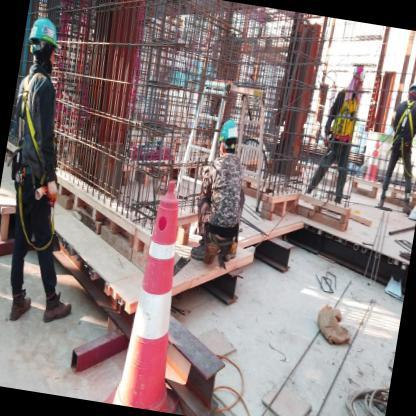Helmet: (27, 14, 67, 54), (213, 115, 246, 150)
safety-shoe: (36, 290, 76, 329), (6, 286, 36, 332)
